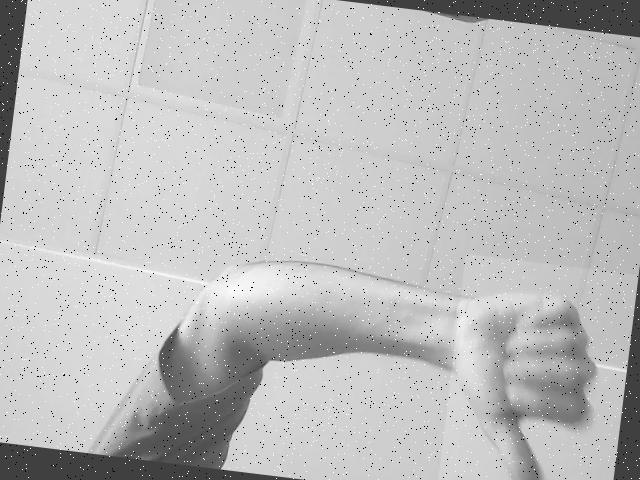bad: (436, 254, 638, 480)
